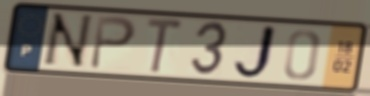0: (281, 28, 323, 82)
3: (187, 19, 230, 80)
J: (230, 22, 280, 83)
N: (38, 12, 96, 71)
P: (87, 14, 139, 72)
T: (144, 15, 186, 77)
